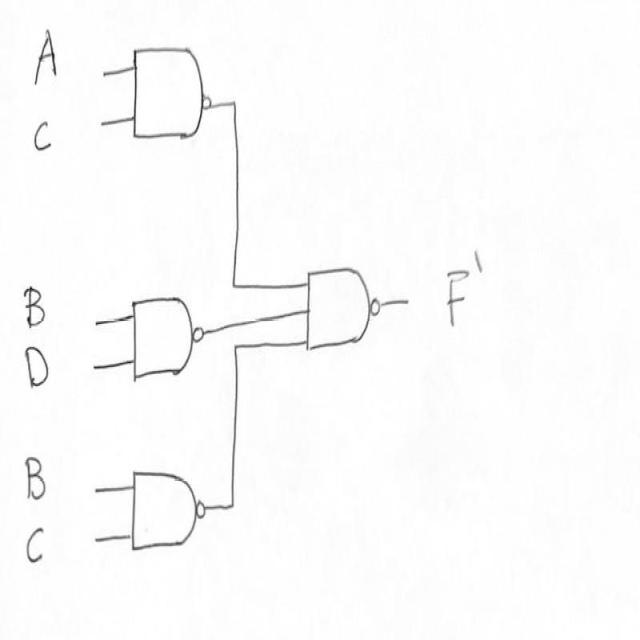NAND: (127, 32, 217, 163), (296, 248, 386, 368), (120, 463, 213, 567), (121, 288, 210, 385)
